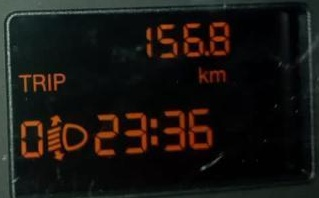-: (204, 49, 209, 58)
0: (18, 116, 44, 158)
1: (144, 24, 153, 61)
2: (93, 112, 119, 157)
3: (123, 110, 146, 155), (161, 108, 185, 151)
5: (155, 21, 179, 58)
6: (187, 106, 214, 149), (181, 20, 203, 56)
8: (209, 20, 232, 55)
X: (148, 115, 159, 148), (32, 71, 46, 94), (16, 70, 30, 93), (53, 70, 66, 90), (209, 68, 225, 82), (197, 66, 208, 83), (47, 69, 52, 94)
